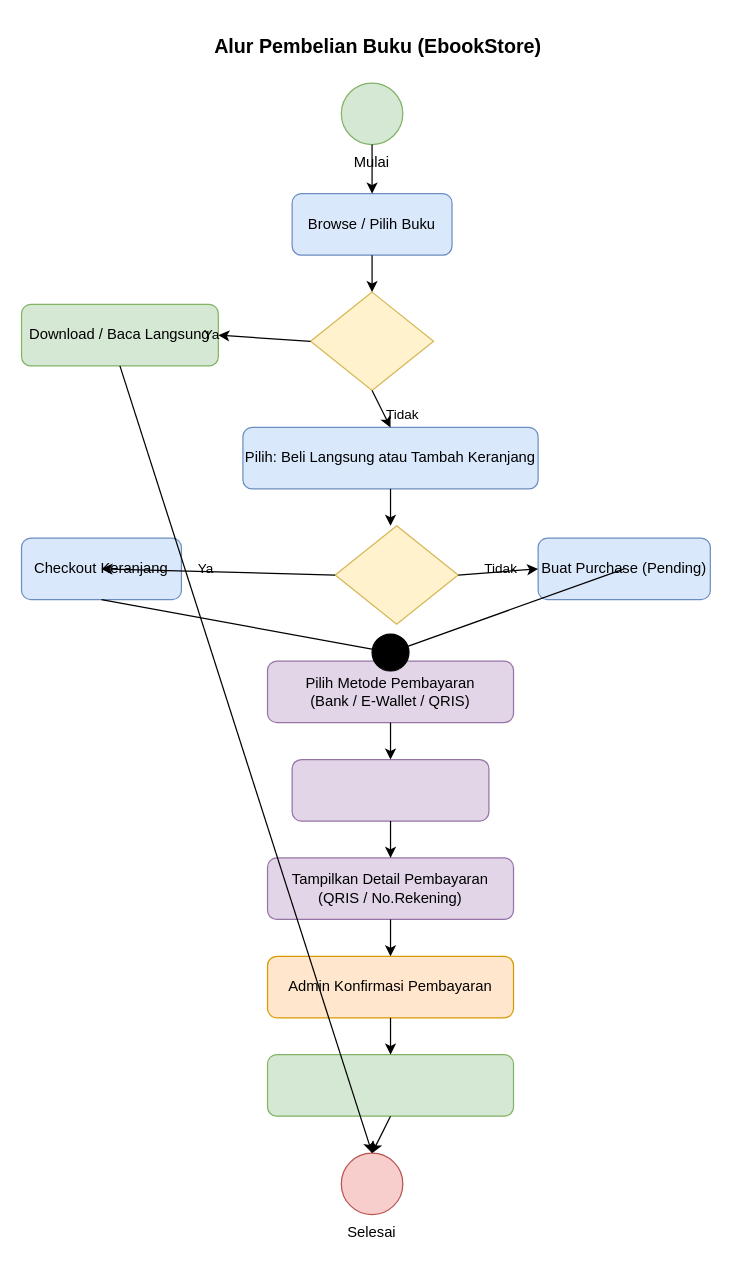
Some shapes in this 732 by 1266 pixel diagram are drawn without their labels. Here are the shapes that lost their labels. From the top down, the centre of each, then its label:
[371,341]: Buku Gratis?
[396,574]: Pakai Keranjang?
[390,789]: Buat Payment (Pending)
[390,1084]: Purchase & Payment Completed
